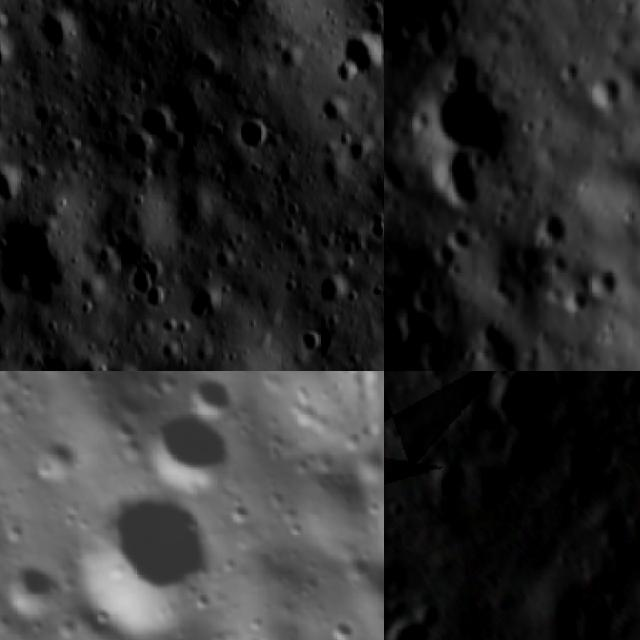crater: (41, 465, 244, 640), (269, 452, 384, 589), (128, 394, 242, 510), (0, 207, 92, 312), (475, 371, 579, 450), (422, 77, 523, 157), (322, 528, 384, 640), (443, 371, 607, 413), (14, 423, 90, 498), (0, 552, 69, 633), (553, 421, 625, 495), (416, 147, 494, 210), (323, 16, 384, 85), (384, 586, 461, 640), (174, 371, 234, 429), (140, 99, 194, 155), (384, 308, 431, 371), (119, 260, 173, 314), (35, 9, 87, 61), (384, 405, 411, 502), (310, 264, 362, 314), (234, 111, 280, 156), (443, 50, 487, 90), (220, 491, 260, 533), (586, 260, 625, 303), (603, 371, 640, 415), (474, 310, 511, 352), (532, 207, 572, 244), (586, 71, 624, 109), (442, 222, 478, 258), (412, 282, 446, 316), (426, 233, 458, 269), (556, 285, 592, 314), (0, 161, 23, 204), (623, 391, 640, 445), (557, 56, 582, 83)
